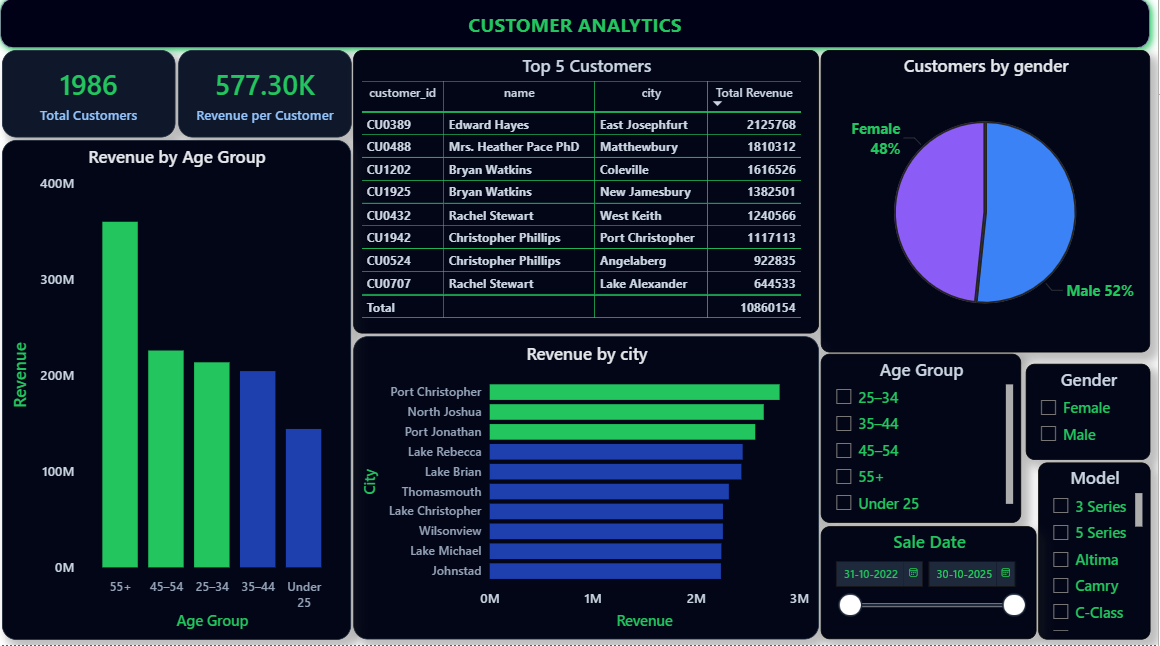

What the dashboard file says about the page in this screenshot:
{"tool":"powerbi","page":{"name":"Page 2","canvas":[1280,720],"ordinal":1},"visuals":[{"type":"shape","box":[0,0,1280,72.9],"z":0},{"type":"card","fields":{"Values":["fact_sales.Total Customers"]},"box":[11.4,65.3,190,95.7],"z":1000},{"type":"card","fields":{"Values":["fact_sales.Revenue per Customer"]},"box":[204.3,65.7,190,95.7],"z":2000},{"type":"tableEx","title":"Top 5 Customers","fields":{"Values":["dim_customers.customer_id","dim_customers.name","dim_customers.city","fact_sales.Total Revenue"]},"box":[397.1,65.7,511.4,311.4],"z":3000},{"type":"pieChart","title":"Customers by gender","fields":{"Y":["fact_sales.Total Customers"],"Category":["dim_customers.gender"]},"box":[910,65.7,361.4,332],"z":4000},{"type":"clusteredBarChart","title":"Revenue by city","fields":{"Category":["dim_customers.city"],"Y":["fact_sales.Total Revenue"]},"box":[397.1,380,511.4,332.9],"z":5000},{"type":"clusteredColumnChart","title":"Revenue by Age Group","fields":{"Y":["fact_sales.Total Revenue"],"Category":["dim_customers.Age Group"]},"box":[11.4,164.3,382.9,548.6],"z":6000},{"type":"slicer","title":"Age Group","fields":{"Values":["dim_customers.Age Group"]},"box":[910,400,220,185.7],"z":7000},{"type":"slicer","title":"Gender","fields":{"Values":["dim_customers.gender"]},"box":[1134.3,410,137.1,105.7],"z":8000},{"type":"slicer","title":"Model","fields":{"Values":["dim_cars.model"]},"box":[1148.6,518.6,122.9,194.3],"z":9000},{"type":"slicer","title":"Sale Date","fields":{"Values":["dim_date.sale_date"]},"box":[910,588.6,237.1,124.3],"z":10000}]}

Visuals, with their boxes in screenshot pixels (x1, y1, x2, y2), scaled from the page's 1280x720 canvas onto the 1160x646 screenshot:
shape: x1=0 y1=0 x2=1159 y2=65
card - fact_sales.Total Customers: x1=10 y1=59 x2=183 y2=144
card - fact_sales.Revenue per Customer: x1=185 y1=59 x2=357 y2=145
"Top 5 Customers" tableEx: x1=360 y1=59 x2=823 y2=338
"Customers by gender" pieChart: x1=825 y1=59 x2=1152 y2=357
"Revenue by city" clusteredBarChart: x1=360 y1=341 x2=823 y2=640
"Revenue by Age Group" clusteredColumnChart: x1=10 y1=147 x2=357 y2=640
"Age Group" slicer: x1=825 y1=359 x2=1024 y2=526
"Gender" slicer: x1=1028 y1=368 x2=1152 y2=463
"Model" slicer: x1=1041 y1=465 x2=1152 y2=640
"Sale Date" slicer: x1=825 y1=528 x2=1040 y2=640
